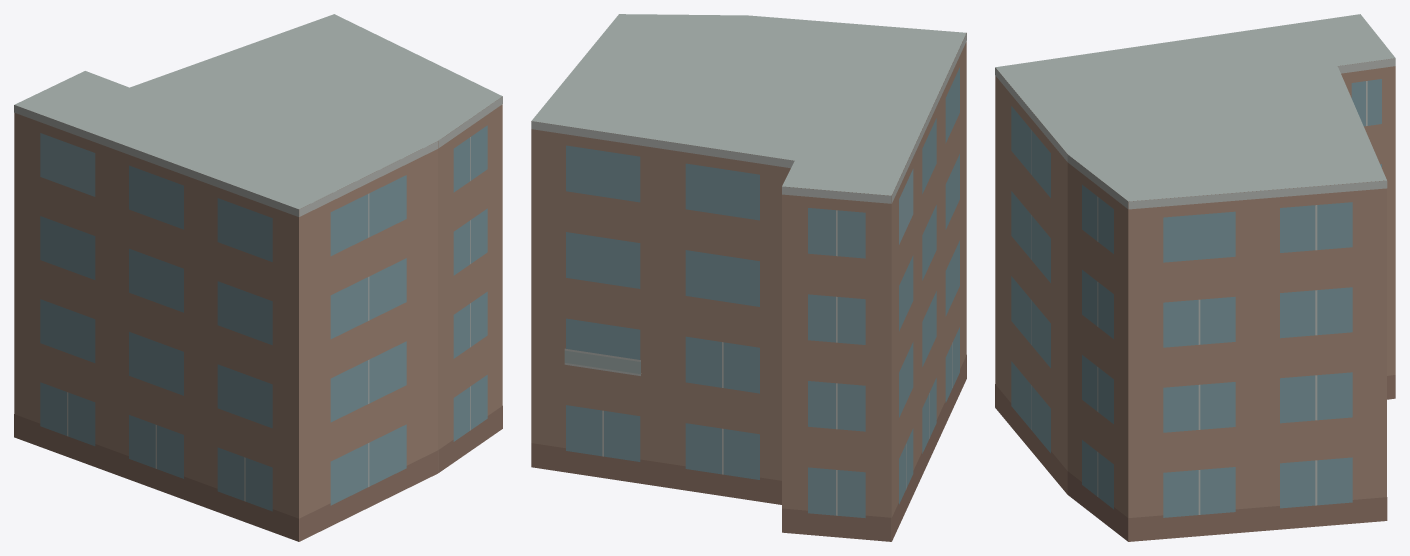
Rendered from survey-upis-32894988.glb.
3 views of the same model, side by side, from view 1: azimuth 30°, elevation 25°; view 2: azimuth 150°, elevation 25°; view 3: azimuth 270°, elevation 25° (orthographic). The views are drawn at different scales.
Visible parts, largest first — view 1: survey-upis-32894988.tmp; view 2: survey-upis-32894988.tmp; view 3: survey-upis-32894988.tmp.
Boxes of the visible parts, x1,y1,x2,y2 form: survey-upis-32894988.tmp: (14,14,502,541); survey-upis-32894988.tmp: (531,14,966,541); survey-upis-32894988.tmp: (995,14,1395,541).
Size of the model in its own units: 12.29 by 10.4 by 11.1.
